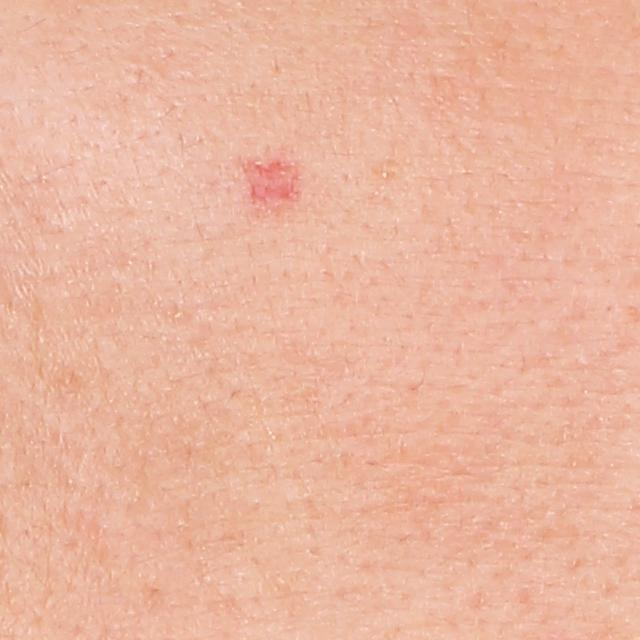other: (234, 151, 316, 216)
